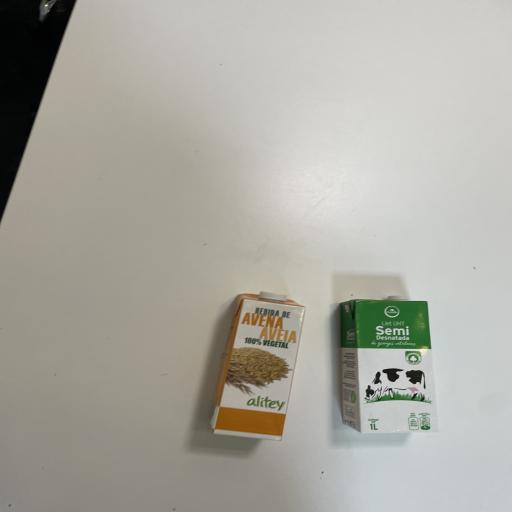milk: (333, 290, 440, 442)
oat_milk: (204, 288, 309, 444)
